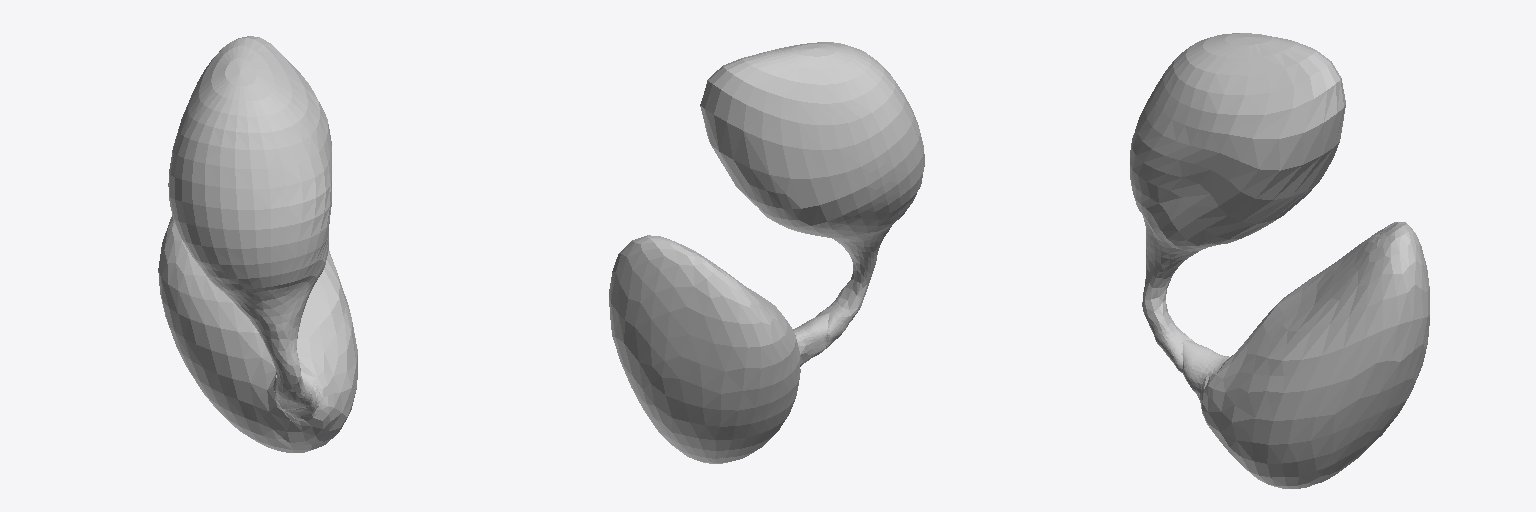
File: EOSINOFIL.obj
3 views of the same model, side by side, from view 1: azimuth 30°, elevation 25°; view 2: azimuth 150°, elevation 25°; view 3: azimuth 270°, elevation 25° (orthographic).
Visible parts, largest first — view 1: Sphere; view 2: Sphere; view 3: Sphere.
Boxes of the visible parts, x1,y1,x2,y2 form: Sphere: [158, 36, 357, 452]; Sphere: [609, 42, 924, 463]; Sphere: [1130, 33, 1429, 488].
Size of the model in its own units: 4.01 by 7.21 by 4.75.